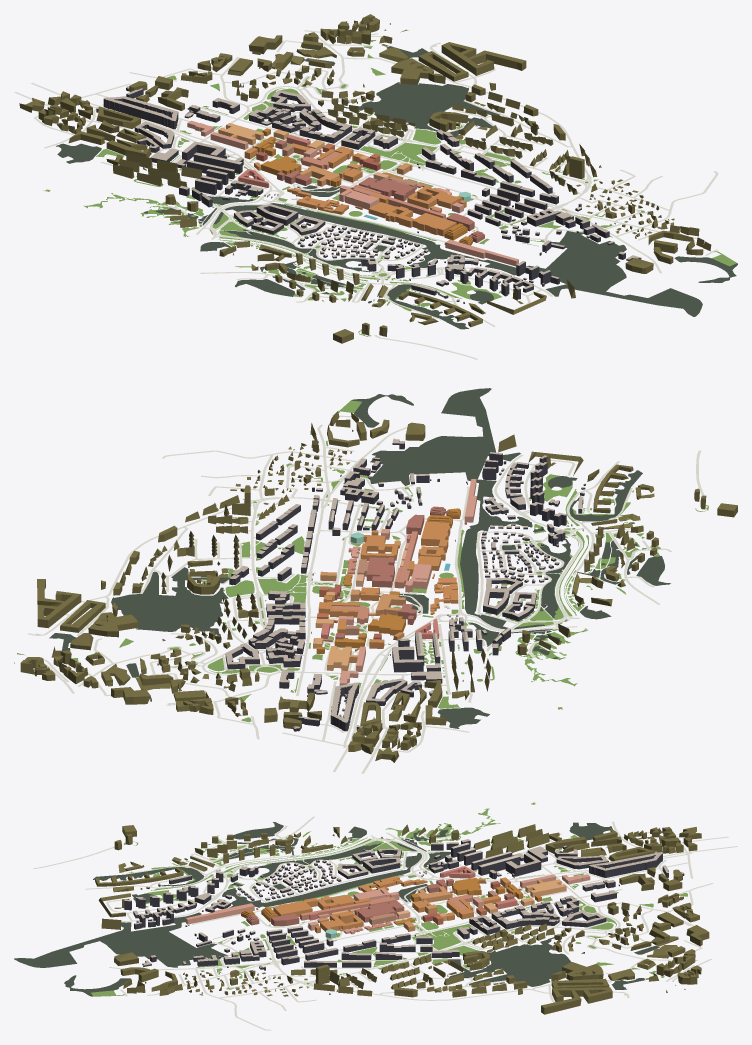
Rendered from johanneberg.glb.
3 views of the same model, one above another, from view 1: azimuth 30°, elevation 25°; view 2: azimuth 150°, elevation 25°; view 3: azimuth 270°, elevation 25° (orthographic). The views are drawn at different scales.
Parts seen in each view (by area): view 1: far_away_building, buildings, pass_forest, pass_roads_unclassified, pass_vegetation, buildings.946, buildings.914, buildings.709, buildings.629, buildings.028, buildings.714; view 2: far_away_building, buildings, pass_forest, pass_roads_unclassified, pass_vegetation, buildings.946, buildings.709, buildings.914, buildings.629, buildings.001; view 3: far_away_building, buildings, pass_forest, pass_roads_unclassified, pass_vegetation, buildings.946, buildings.914, buildings.709, buildings.028, buildings.629, buildings.721, buildings.713 (+1 smaller).
Boxes of the visible parts, bbox=[...] form: far_away_building: bbox=[19, 14, 711, 343]; buildings: bbox=[96, 86, 677, 303]; pass_forest: bbox=[56, 46, 737, 329]; pass_roads_unclassified: bbox=[14, 30, 718, 359]; pass_vegetation: bbox=[43, 40, 736, 336]; buildings.946: bbox=[368, 202, 456, 236]; buildings.914: bbox=[407, 186, 462, 208]; buildings.709: bbox=[358, 177, 415, 201]; buildings.629: bbox=[287, 188, 348, 214]; buildings.028: bbox=[445, 239, 518, 266]; buildings.714: bbox=[339, 185, 379, 209]; far_away_building: bbox=[14, 411, 737, 762]; buildings: bbox=[225, 429, 585, 731]; pass_forest: bbox=[49, 388, 670, 728]; pass_roads_unclassified: bbox=[27, 415, 706, 773]; pass_vegetation: bbox=[71, 400, 708, 722]; buildings.946: bbox=[417, 521, 450, 570]; buildings.709: bbox=[366, 557, 394, 587]; buildings.914: bbox=[360, 535, 398, 560]; buildings.629: bbox=[430, 577, 458, 614]; buildings.001: bbox=[368, 614, 405, 635]; far_away_building: bbox=[95, 824, 709, 1014]; buildings: bbox=[124, 836, 684, 983]; pass_forest: bbox=[14, 822, 659, 996]; pass_roads_unclassified: bbox=[33, 816, 737, 1030]; pass_vegetation: bbox=[91, 802, 687, 996]; buildings.946: bbox=[273, 894, 355, 916]; buildings.914: bbox=[320, 911, 363, 931]; buildings.709: bbox=[354, 900, 404, 922]; buildings.028: bbox=[185, 903, 254, 924]; buildings.629: bbox=[358, 875, 427, 892]; buildings.721: bbox=[525, 879, 566, 897]; buildings.713: bbox=[300, 896, 394, 920].
Size of what is drawn, in the model's own units: 1643 by 54.41 by 2200.
